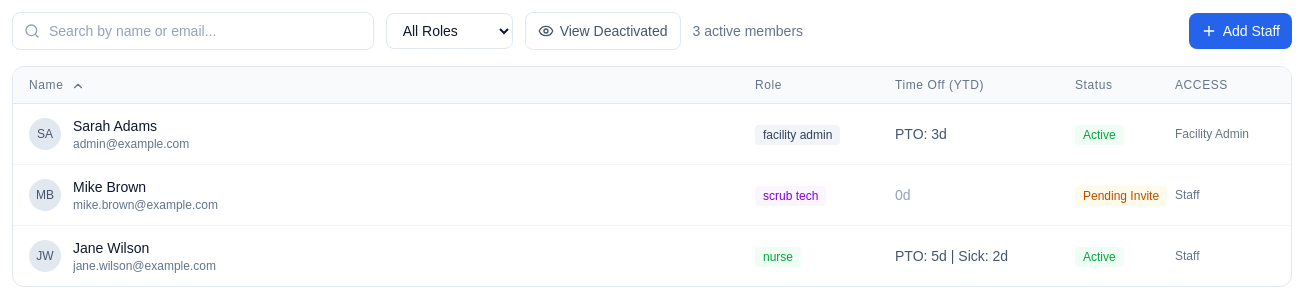
Test case: StaffDirectoryTab › search filtering › filters by name
Type "Jane" into the field with placeholder "Search by name or email..." at [193, 31], box [12,12,374,50]
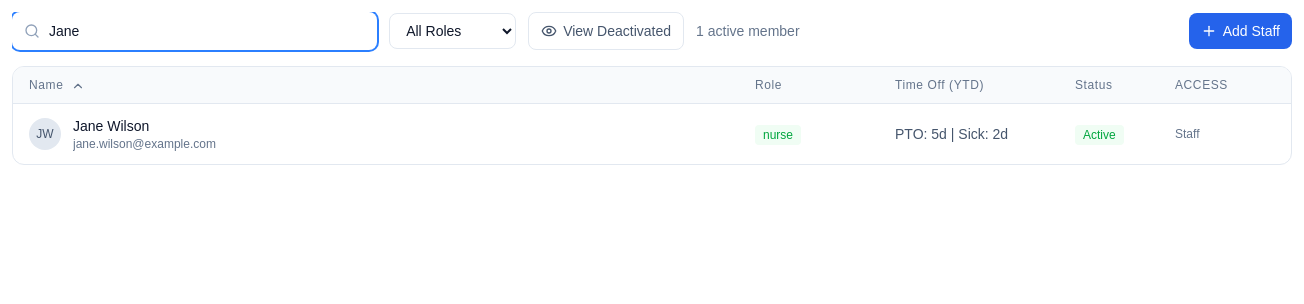
Expected: the text "Jane Wilson" is shown, [73,118,149,134]
Expected: the text "Mike Brown" is gone
Expected: the text "1 active member" is shown, [696,21,800,41]
